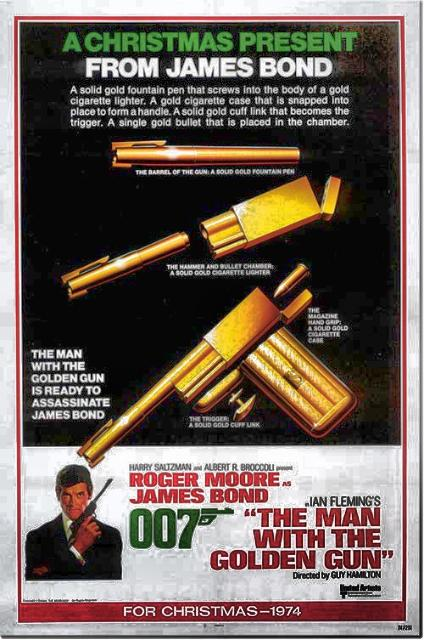pistol: (65, 258, 356, 462), (64, 475, 114, 555)
